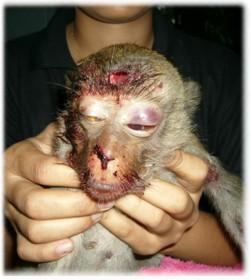bleeding: (72, 62, 148, 96), (72, 133, 116, 176)
